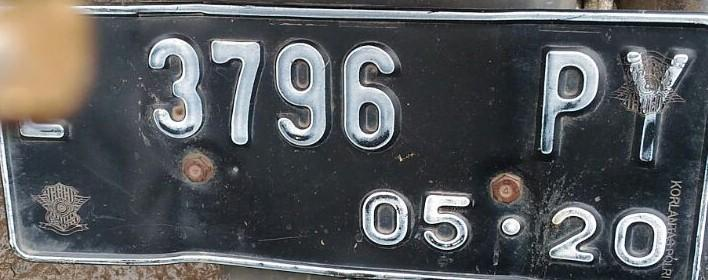clone-license-plate: (2, 6, 704, 279)
